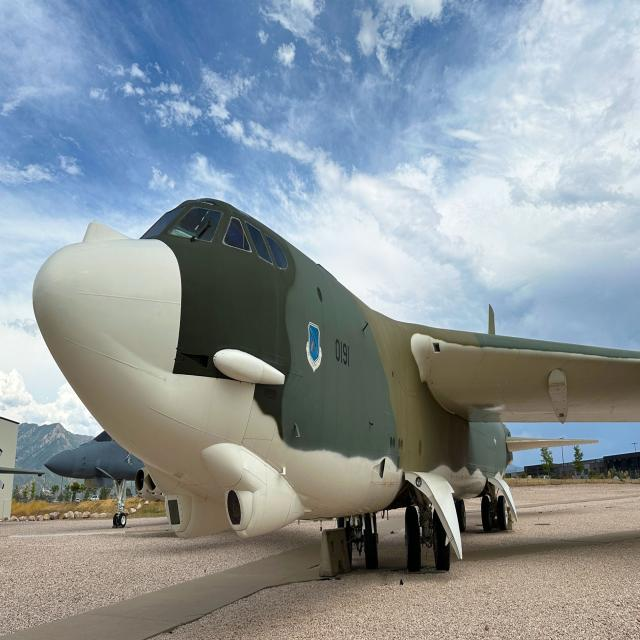B1: (23, 41, 640, 604)
